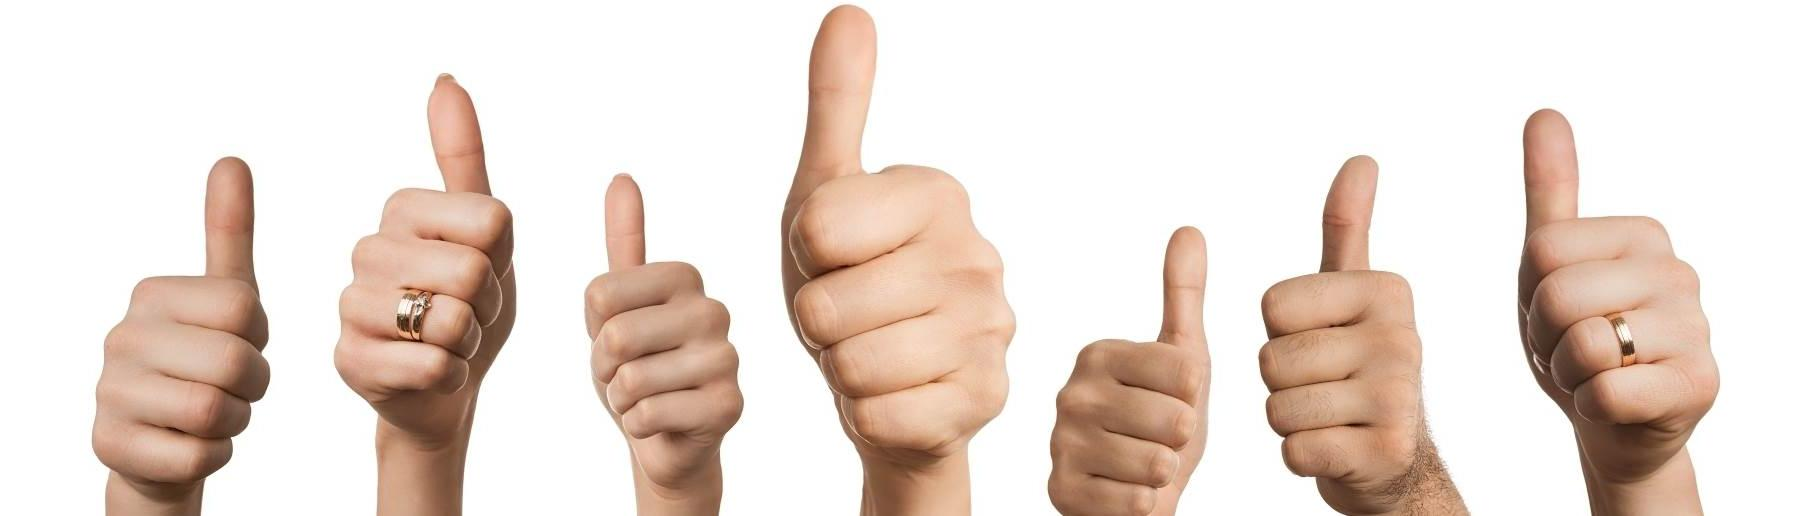thumbsup: (775, 6, 1022, 473), (1514, 103, 1720, 472), (328, 69, 525, 432), (83, 154, 276, 495), (1252, 151, 1430, 493), (579, 168, 746, 475), (1043, 223, 1215, 516)
